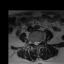CCS_stenosis: (36, 39, 37, 47)
LFS_normal: (39, 38, 41, 44)
LLS_normal: (37, 39, 39, 46)
RFS_normal: (32, 39, 34, 45)
RLS_normal: (34, 39, 36, 46)
